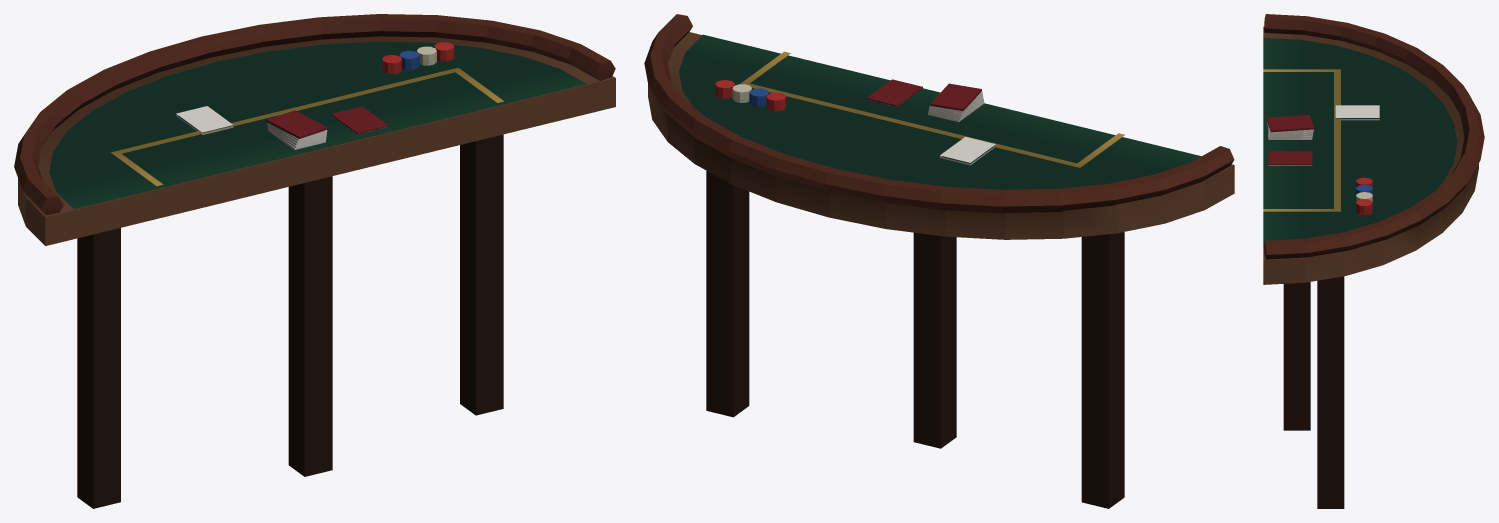
The model's file is table_cards.glb.
3 renders of one model, left to right at view 1: azimuth 30°, elevation 25°; view 2: azimuth 150°, elevation 25°; view 3: azimuth 270°, elevation 25°, orthographic. The views are drawn at different scales.
Parts seen in each view (by area): view 1: table_cards, deck, card_flip, card_face_shown; view 2: table_cards, deck, card_flip, card_face_shown; view 3: table_cards, deck, card_flip, card_face_shown.
Part boxes in pixels (left/top/right/bottom): table_cards: left=14, top=14, right=615, bottom=508; deck: left=266, top=110, right=327, bottom=149; card_flip: left=331, top=106, right=388, bottom=134; card_face_shown: left=176, top=106, right=232, bottom=132; table_cards: left=644, top=14, right=1234, bottom=508; deck: left=928, top=83, right=984, bottom=122; card_flip: left=866, top=79, right=922, bottom=106; card_face_shown: left=940, top=136, right=995, bottom=162; table_cards: left=1263, top=14, right=1484, bottom=508; deck: left=1266, top=115, right=1314, bottom=139; card_flip: left=1268, top=151, right=1312, bottom=165; card_face_shown: left=1335, top=105, right=1379, bottom=117.
Size of the model in its own units: 1.65 by 0.966 by 0.6564.
